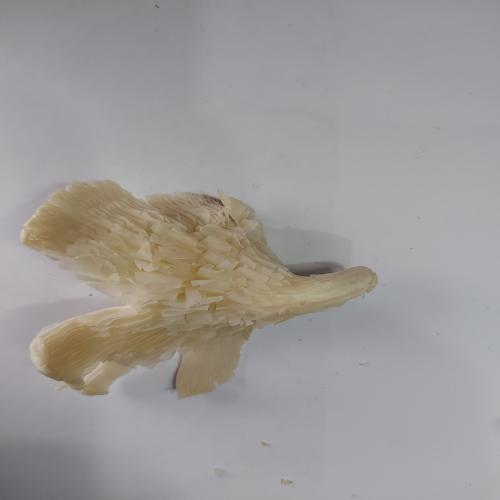Oyster Mushroom: (19, 178, 378, 399)
